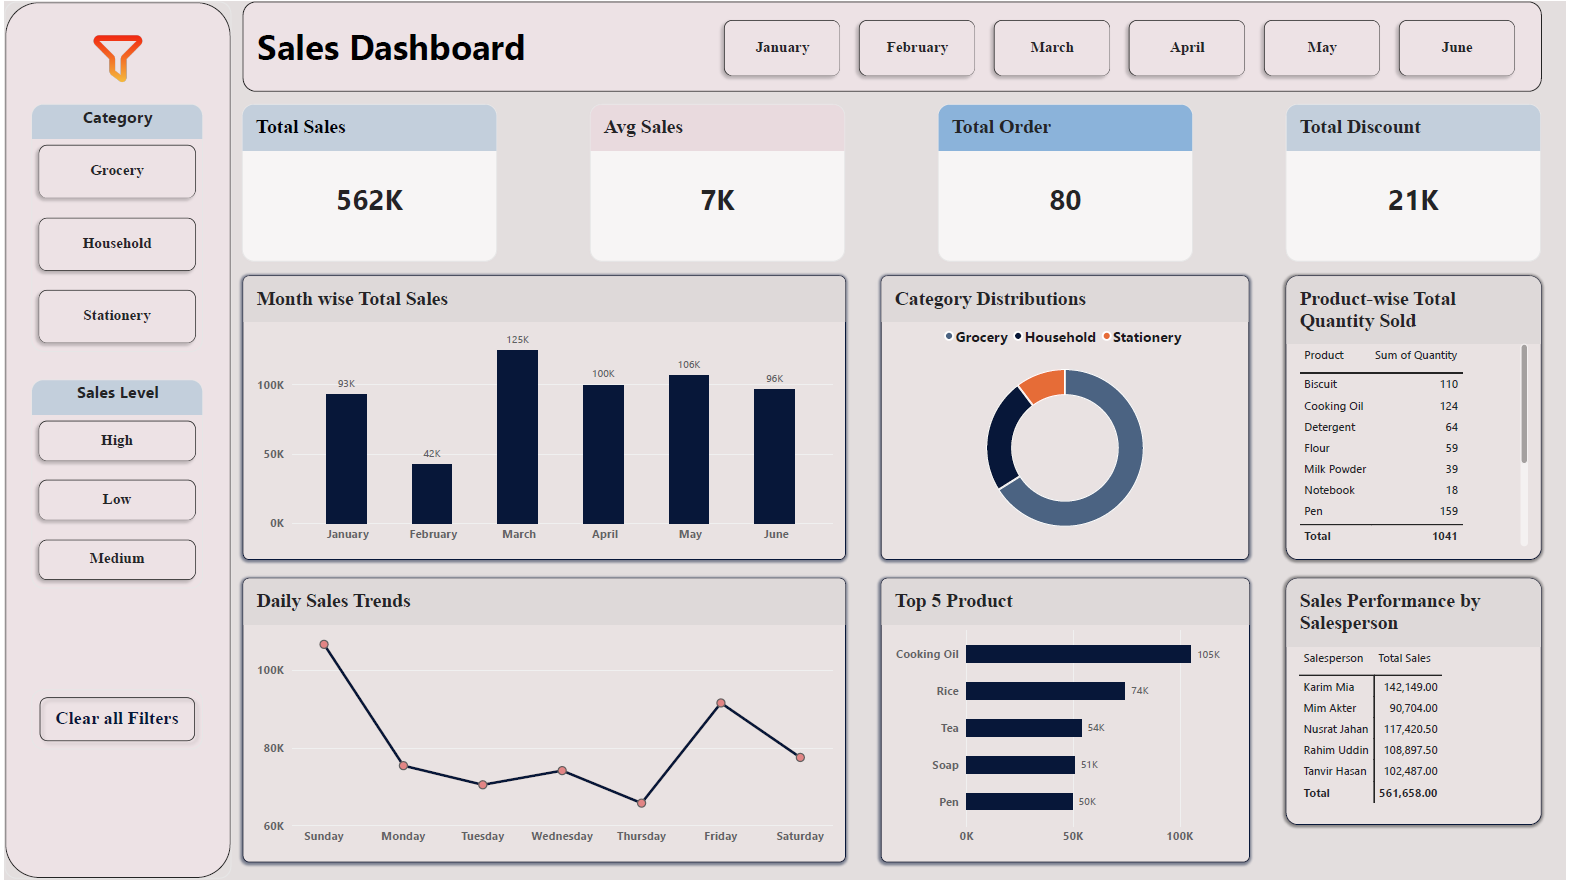

The page's visual inventory and layout, read from the dashboard file:
{"tool":"powerbi","page":{"name":"Page 1","canvas":[1920,1080],"ordinal":0},"visuals":[{"type":"shape","box":[0,0,278.9,1078.9],"z":0},{"type":"card","title":"Total Sales","fields":{"Values":["Table.Total Sales"]},"box":[292,125.7,314,194],"z":1000},{"type":"card","title":"Avg Sales","fields":{"Values":["Table.Average Sales"]},"box":[720,125.7,314,194],"z":2000},{"type":"card","title":"Total Order","fields":{"Values":["Table.Total ord"]},"box":[1148,125.7,314,194],"z":3000},{"type":"card","title":"Total Discount","fields":{"Values":["Table.Total Discount"]},"box":[1575.9,125.7,314,194],"z":4000},{"type":"columnChart","title":"Month wise Total Sales","fields":{"Category":["Sales Data (Sales Data).Month name"],"Y":["Table.Total Sales"]},"box":[292.6,337,742.6,350],"z":5000},{"type":"lineChart","title":" Daily Sales Trends","fields":{"Category":["Sales Data (Sales Data).Day name"],"Y":["Table.Total Sales"]},"box":[292.6,709.3,742.6,350],"z":6000},{"type":"donutChart","title":" Category Distributions ","fields":{"Category":["Sales Data (Sales Data).Category"],"Y":["Table.Total Sales"]},"box":[1077.8,337,453.7,350],"z":7000},{"type":"clusteredBarChart","title":"Top 5 Product","fields":{"Category":["Sales Data (Sales Data).Product"],"Y":["Table.Total Sales"]},"box":[1078,709,454,350],"z":8000},{"type":"tableEx","title":"Product-wise Total Quantity Sold","fields":{"Values":["Sales Data (Sales Data).Product","Sum(Sales Data (Sales Data).Quantity)"]},"box":[1575.9,337,314.8,350],"z":9000},{"type":"pivotTable","title":"Sales Performance by Salesperson","fields":{"Columns":["Sales Data (Sales Data).Salesperson"],"Rows":["Sales Data (Sales Data).Salesperson"],"Values":["Table.Total Sales"]},"box":[1575.9,709.3,314.8,303.7],"z":10000},{"type":"shape","box":[292.6,0,1598.1,111.1],"z":11000},{"type":"textbox","box":[311.1,25.9,448.1,85.2],"z":12000},{"type":"advancedSlicerVisual","fields":{"Values":["Sales Data (Sales Data).Month name"]},"box":[877.8,14.8,992.6,85.2],"z":13000},{"type":"advancedSlicerVisual","fields":{"Values":["Sales Data (Sales Data).Category"]},"box":[33.3,125.9,211.1,305.6],"z":14000},{"type":"advancedSlicerVisual","fields":{"Values":["Sales Data (Sales Data).Sales Level"]},"box":[33.3,464.8,211.1,257.4],"z":15000},{"type":"actionButton","box":[33.3,846.3,211.1,74.1],"z":15001},{"type":"image","box":[74.1,27.8,129.6,83.3],"z":15002}]}

Visuals, with their boxes in screenshot pixels (x1, y1, x2, y2), scaled from the page's 1920x1080 canvas onto the 1571x883 screenshot:
shape: {"x1": 0, "y1": 0, "x2": 228, "y2": 882}
"Total Sales" card: {"x1": 239, "y1": 103, "x2": 496, "y2": 261}
"Avg Sales" card: {"x1": 589, "y1": 103, "x2": 846, "y2": 261}
"Total Order" card: {"x1": 939, "y1": 103, "x2": 1196, "y2": 261}
"Total Discount" card: {"x1": 1289, "y1": 103, "x2": 1546, "y2": 261}
"Month wise Total Sales" columnChart: {"x1": 239, "y1": 276, "x2": 847, "y2": 562}
" Daily Sales Trends" lineChart: {"x1": 239, "y1": 580, "x2": 847, "y2": 866}
" Category Distributions " donutChart: {"x1": 882, "y1": 276, "x2": 1253, "y2": 562}
"Top 5 Product" clusteredBarChart: {"x1": 882, "y1": 580, "x2": 1254, "y2": 866}
"Product-wise Total Quantity Sold" tableEx: {"x1": 1289, "y1": 276, "x2": 1547, "y2": 562}
"Sales Performance by Salesperson" pivotTable: {"x1": 1289, "y1": 580, "x2": 1547, "y2": 828}
shape: {"x1": 239, "y1": 0, "x2": 1547, "y2": 91}
textbox: {"x1": 255, "y1": 21, "x2": 621, "y2": 91}
advancedSlicerVisual - Sales Data (Sales Data).Month name: {"x1": 718, "y1": 12, "x2": 1530, "y2": 82}
advancedSlicerVisual - Sales Data (Sales Data).Category: {"x1": 27, "y1": 103, "x2": 200, "y2": 353}
advancedSlicerVisual - Sales Data (Sales Data).Sales Level: {"x1": 27, "y1": 380, "x2": 200, "y2": 590}
actionButton: {"x1": 27, "y1": 692, "x2": 200, "y2": 753}
image: {"x1": 61, "y1": 23, "x2": 167, "y2": 91}
